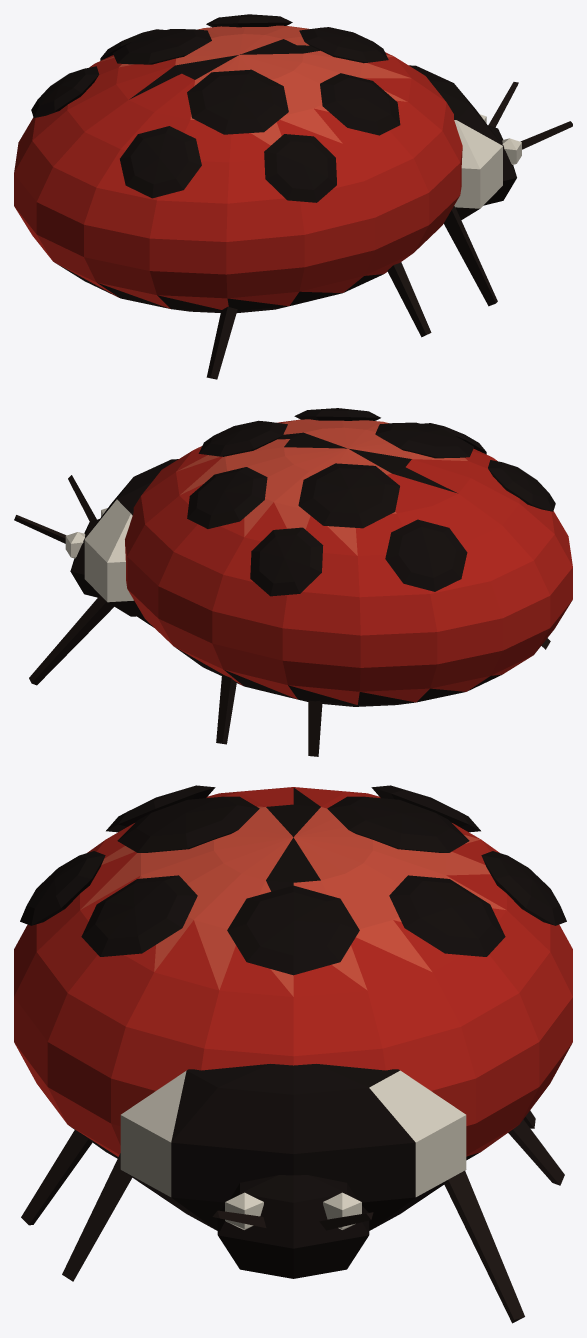
File: creatures-ladybug.glb
The picture shows the model from 3 angles, top to bottom: view 1: azimuth 30°, elevation 25°; view 2: azimuth 150°, elevation 25°; view 3: azimuth 270°, elevation 25°; orthographic projection. The views are drawn at different scales.
Size of the model in its own units: 11.7 by 5.26 by 7.99.
